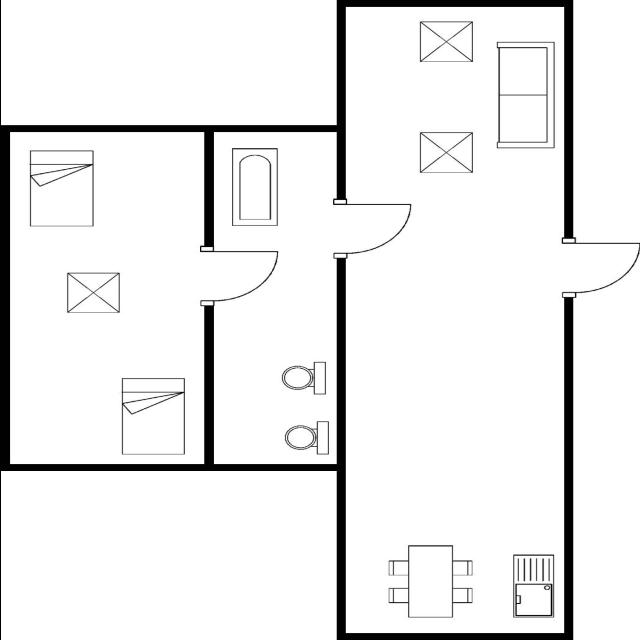bed: (25, 147, 97, 229), (117, 375, 188, 456)
coffee_table: (414, 128, 476, 176), (415, 18, 476, 64), (64, 269, 122, 315)
dining_table: (385, 542, 477, 618)
large_sink: (281, 418, 331, 456), (278, 359, 328, 396)
large_sofa: (494, 38, 560, 150)
sink: (510, 552, 558, 620)
tub: (228, 145, 280, 228)
